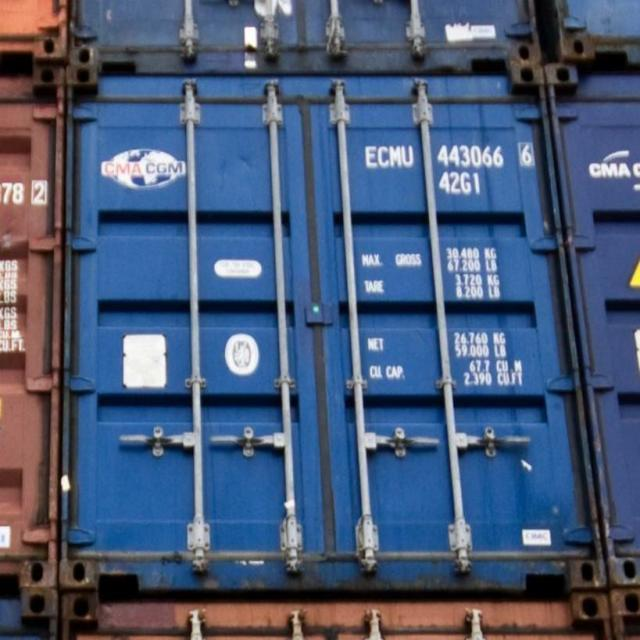ISO: (438, 172, 486, 199)
container_number: (363, 140, 536, 165)
